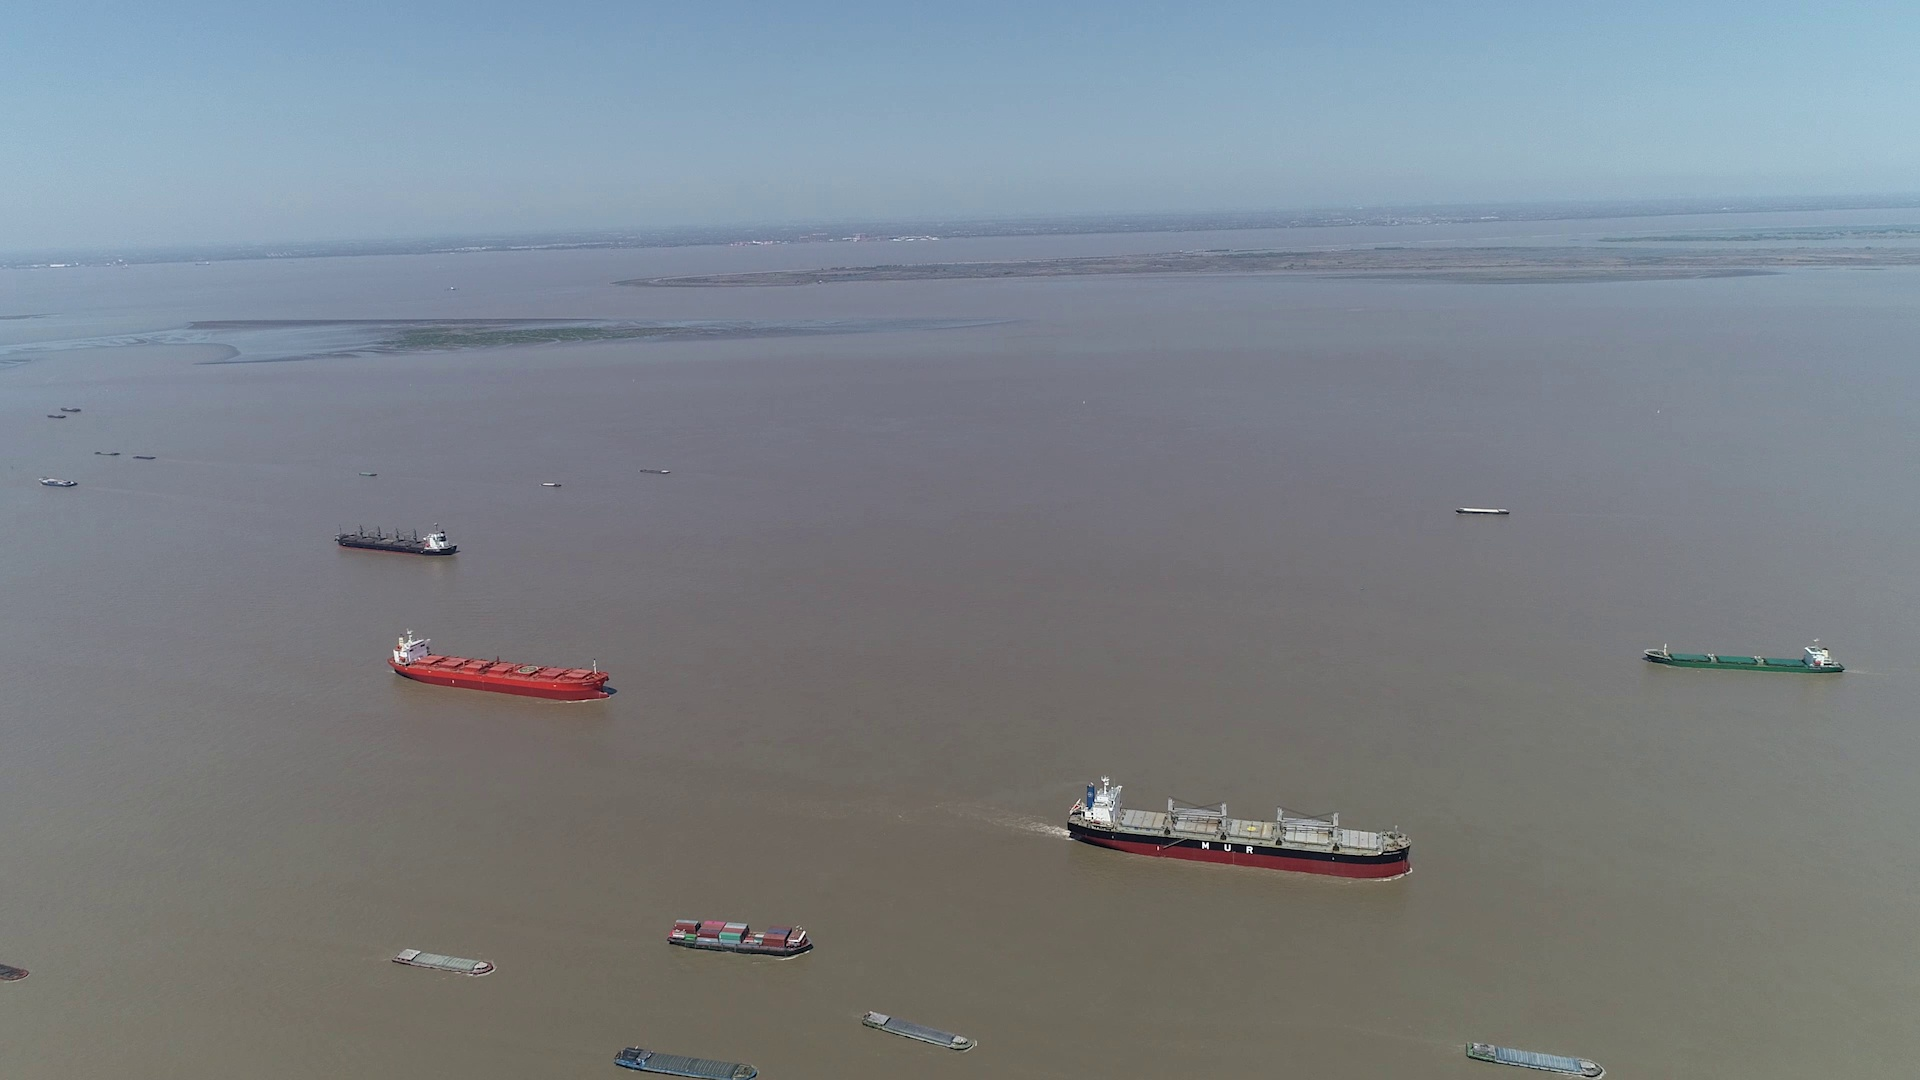ship: (1065, 778, 1416, 880), (390, 633, 607, 702), (1647, 642, 1842, 673), (666, 918, 812, 957), (862, 1010, 978, 1054), (1466, 1040, 1602, 1077), (612, 1047, 764, 1079), (335, 521, 458, 556), (393, 947, 495, 976), (0, 960, 29, 981), (1455, 506, 1509, 516), (40, 476, 80, 488), (537, 480, 559, 487)
